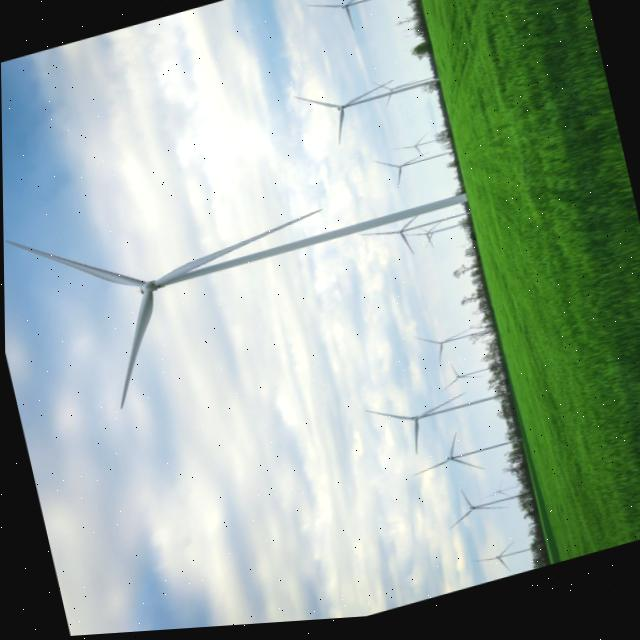solid-blade: (154, 212, 319, 286), (7, 240, 143, 288), (118, 292, 151, 408)
wind-turbine: (6, 199, 465, 406), (294, 84, 436, 147), (363, 399, 496, 457), (412, 438, 513, 479), (306, 0, 386, 33)
